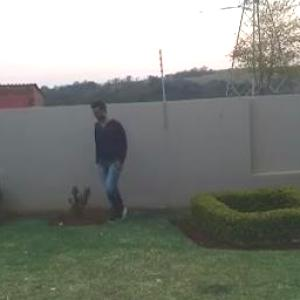follow: (94, 98, 131, 224)
